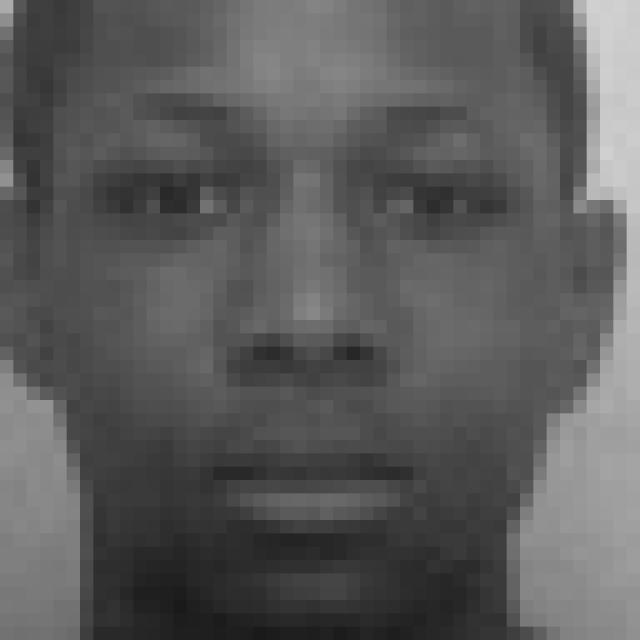neutral: (93, 91, 515, 567)
